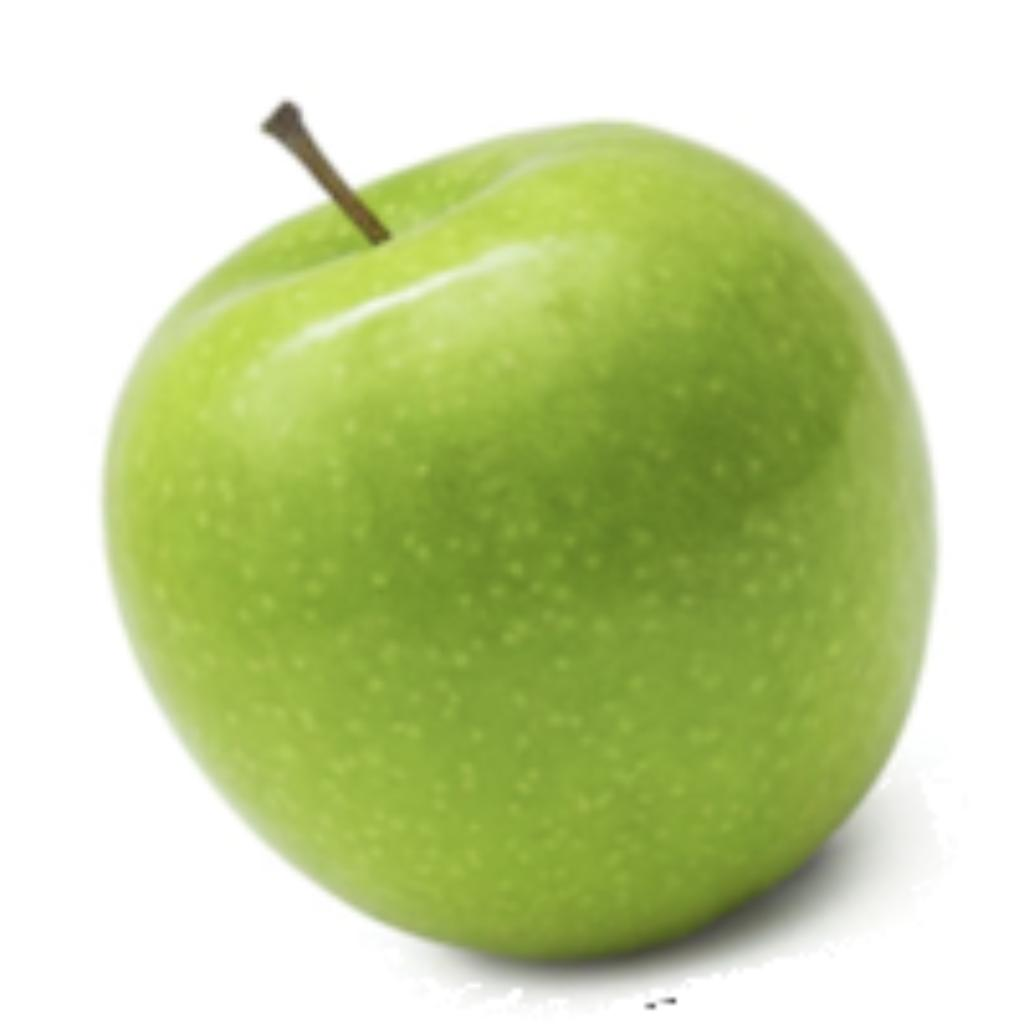apple: (92, 92, 952, 1014)
